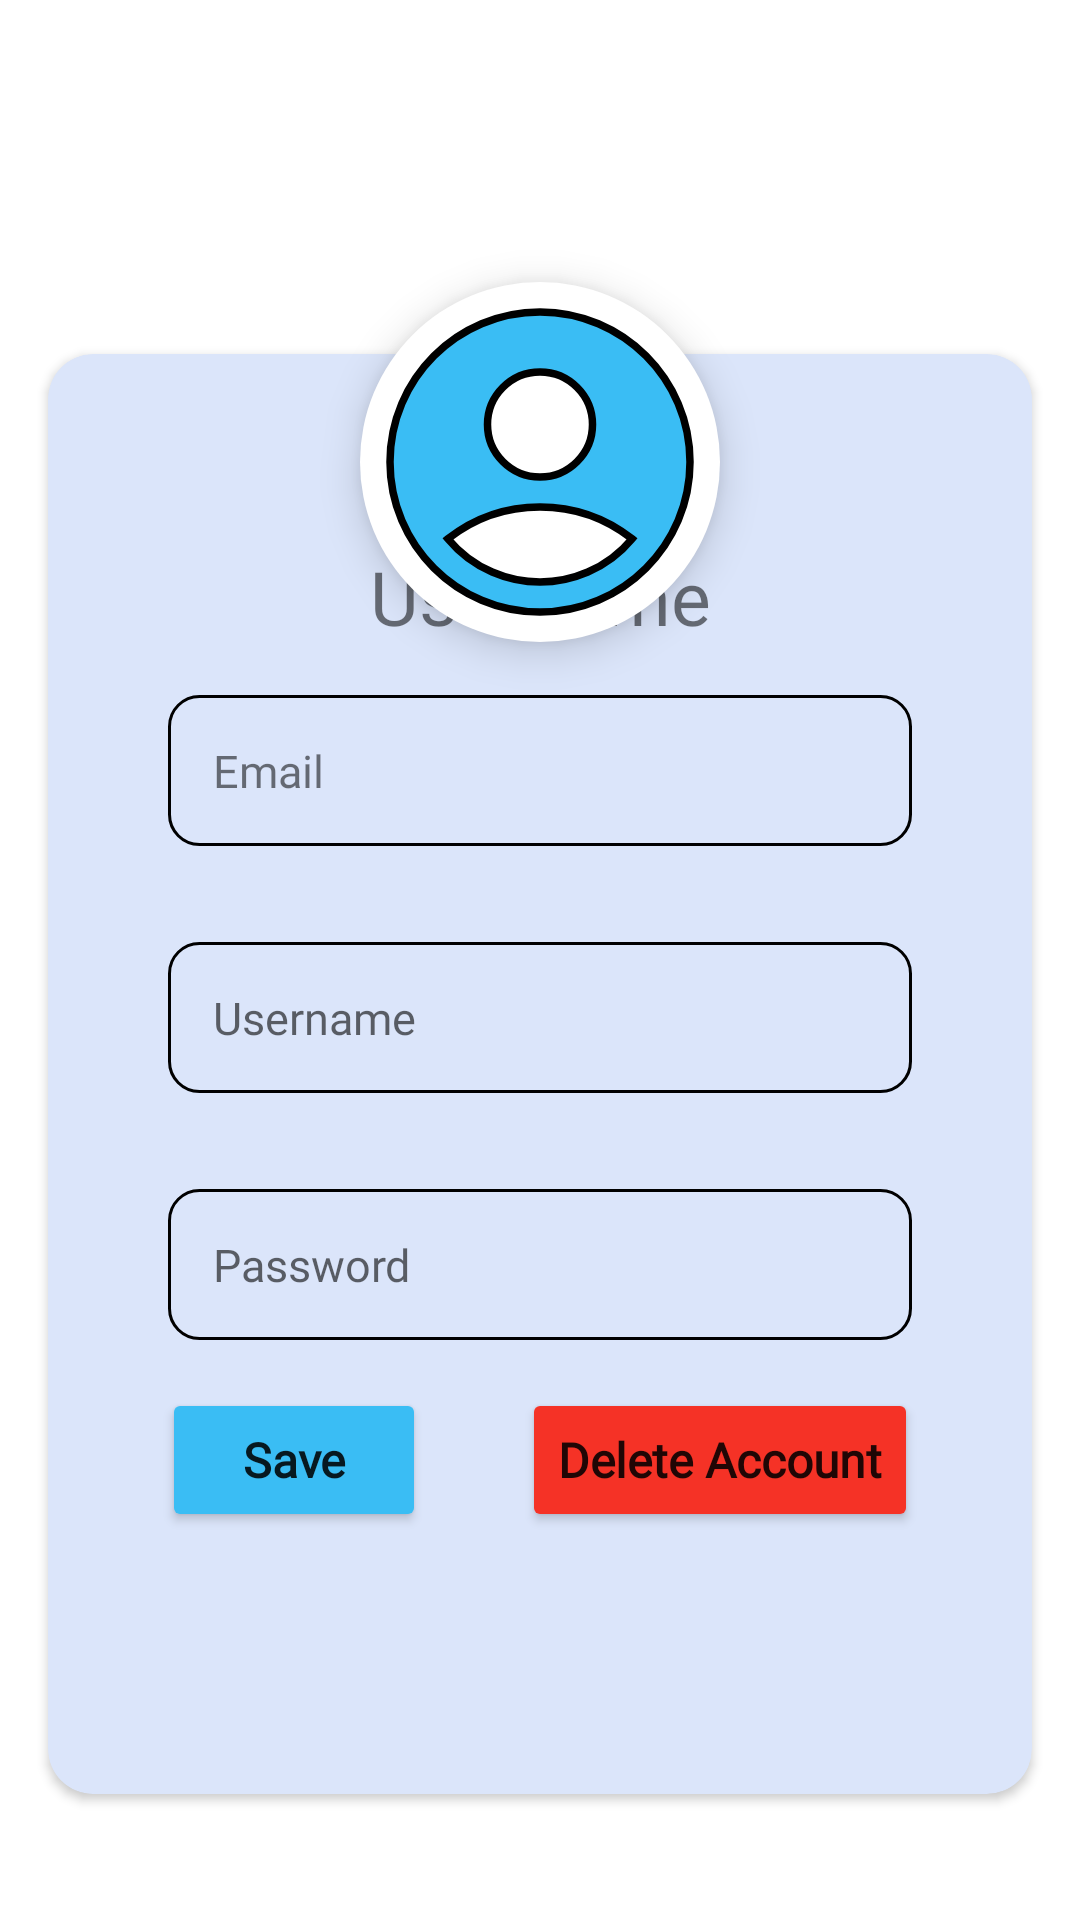

Point at icon controls on the screen. Image size 1080×1920, points as (x=x, y=y).
account circle: (x=540, y=462)
